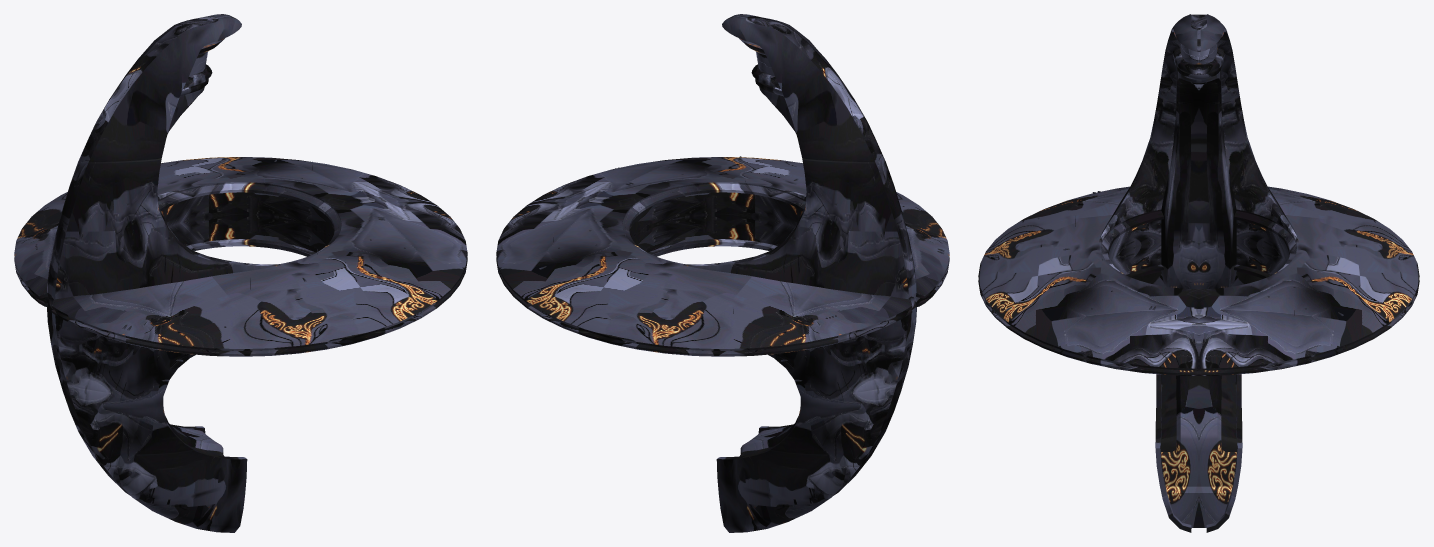
File: Transcencia.obj
The picture shows the model from 3 angles, left to right: view 1: azimuth 30°, elevation 25°; view 2: azimuth 150°, elevation 25°; view 3: azimuth 270°, elevation 25°; orthographic projection. The views are drawn at different scales.
Parts seen in each view (by area): view 1: Mesh01; view 2: Mesh01; view 3: Mesh01.
Part boxes in pixels (x1,y1,x2,y2): Mesh01: [14, 14, 467, 532]; Mesh01: [496, 14, 949, 532]; Mesh01: [978, 14, 1419, 532].
Size of the model in its own units: 1.54 by 1.93 by 1.55.
